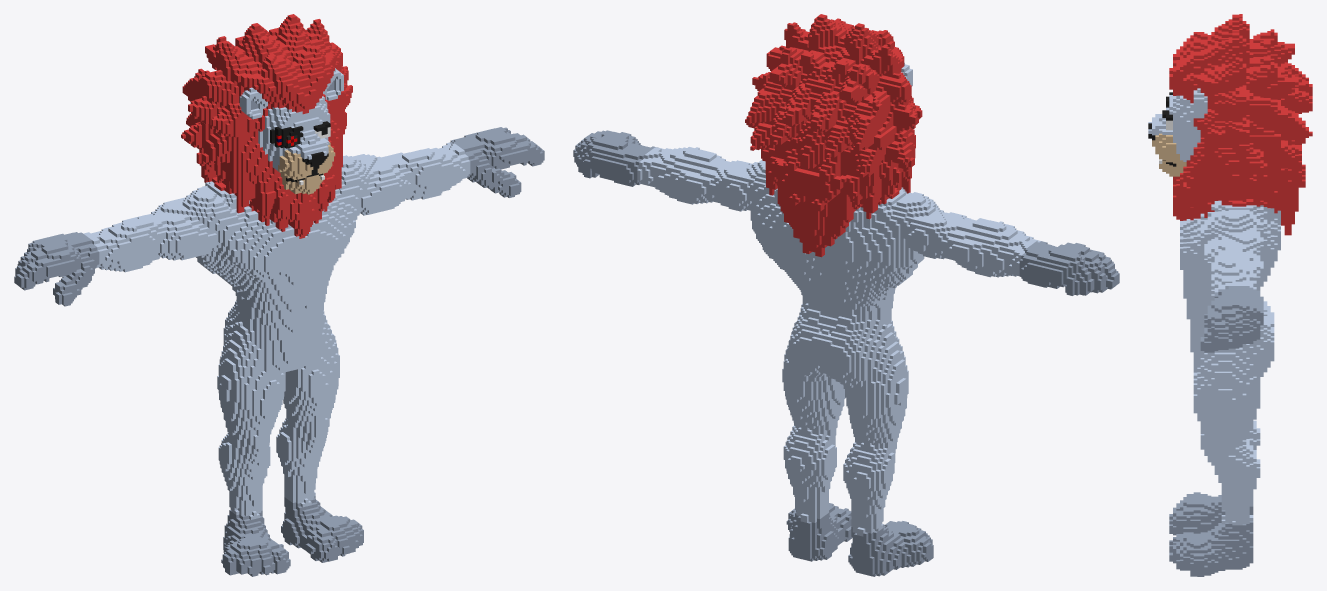
File: 232-y2oFXcWj.glb
3 renders of one model, left to right at view 1: azimuth 30°, elevation 25°; view 2: azimuth 150°, elevation 25°; view 3: azimuth 270°, elevation 25°, orthographic. The views are drawn at different scales.
Visible parts, largest first — view 1: standard; view 2: standard; view 3: standard.
Boxes of the visible parts, x1,y1,x2,y2 form: standard: (14,14,544,576); standard: (573,14,1119,576); standard: (1148,14,1312,576).
Bounding box in the file's own units: 17.2 × 16.5 × 4.7.
4 materials, 4 textured.
